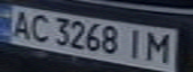2: (66, 18, 87, 51)
3: (48, 15, 72, 47)
6: (81, 21, 103, 53)
8: (100, 24, 121, 56)
A: (3, 7, 36, 39)
C: (24, 11, 54, 44)
I: (121, 27, 148, 61)
M: (142, 29, 178, 64)
